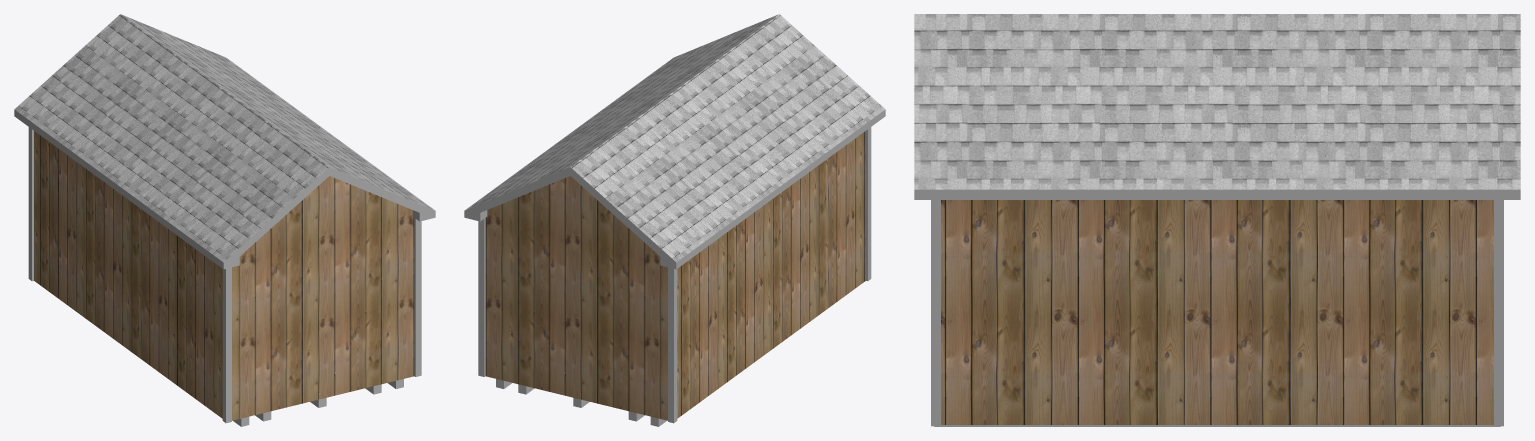
File: Classic A-Frame_8x14.obj
The picture shows the model from 3 angles, left to right: view 1: azimuth 30°, elevation 25°; view 2: azimuth 150°, elevation 25°; view 3: azimuth 270°, elevation 25°; orthographic projection. The views are drawn at different scales.
Parts seen in each view (by area): view 1: Shed, Roof, Sides, Trim, Floor; view 2: Shed, Roof, Sides, Trim, Floor; view 3: Shed, Roof, Sides, Trim, Floor.
Boxes of the visible parts, x1,y1,x2,y2 form: Shed: (34,131,414,420); Roof: (14,14,433,262); Sides: (14,109,435,269); Trim: (28,127,421,423); Floor: (233,379,403,426); Shed: (485,131,865,420); Roof: (466,14,885,262); Sides: (464,109,885,269); Trim: (478,127,871,423); Floor: (496,379,666,426); Shed: (941,200,1493,424); Roof: (914,14,1520,189); Sides: (914,189,1520,199); Trim: (931,200,1503,426); Floor: (934,425,1500,426).
Bounding box in the file's own units: 2.68 × 2.96 × 4.57.
